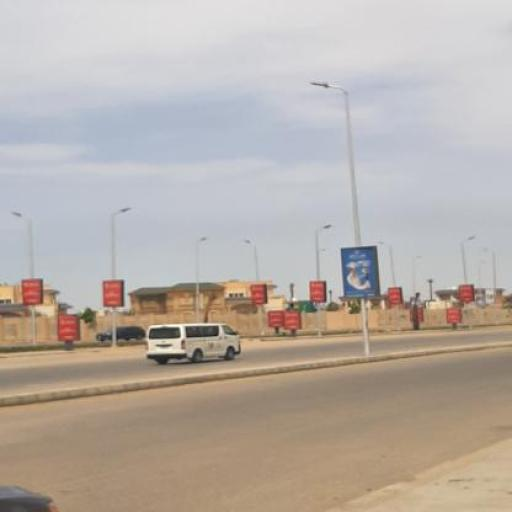street light: (310, 80, 372, 353), (10, 212, 36, 344), (110, 207, 130, 346), (376, 242, 400, 330), (244, 239, 265, 334), (316, 225, 332, 337), (460, 235, 476, 329), (196, 236, 208, 330)
